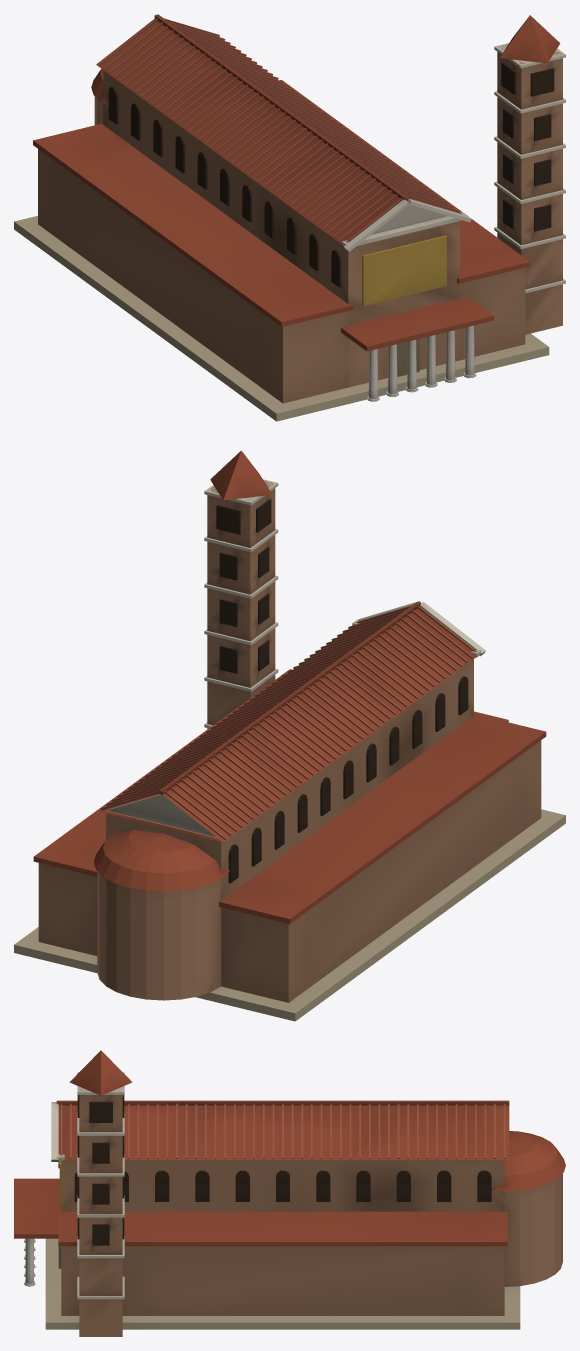
The model's file is santa-maria-in-trastevere.glb.
The picture shows the model from 3 angles, top to bottom: view 1: azimuth 30°, elevation 25°; view 2: azimuth 150°, elevation 25°; view 3: azimuth 270°, elevation 25°; orthographic projection. The views are drawn at different scales.
Visible parts, largest first — view 1: p2_campanile, p1_porch, p0_base; view 2: p2_campanile, p1_porch, p0_base; view 3: p2_campanile, p1_porch, p0_base.
Part boxes in pixels (x1,y1,x2,y2): p2_campanile: (33,14,565,351); p1_porch: (38,70,525,403); p0_base: (14,215,549,421); p2_campanile: (33,450,546,923); p1_porch: (38,659,541,1002); p0_base: (14,809,565,1021); p2_campanile: (14,1050,565,1336); p1_porch: (24,1160,562,1315); p0_base: (45,1238,520,1329).
Bounding box in the file's own units: 41.5 × 39.7 × 69.76.
